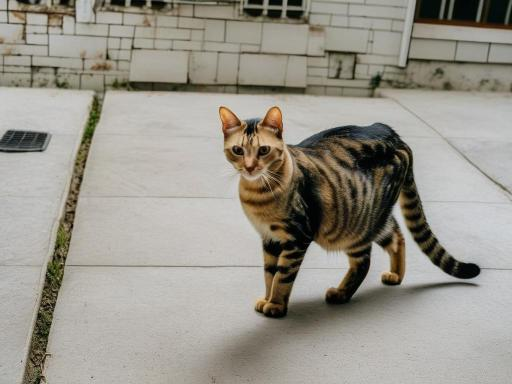cat_standing: (220, 106, 480, 316)
